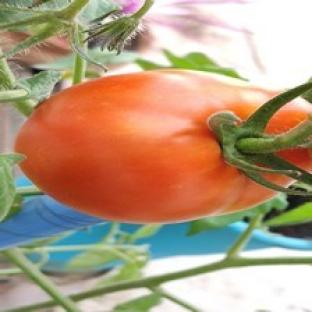Tomato: (16, 70, 277, 222)
